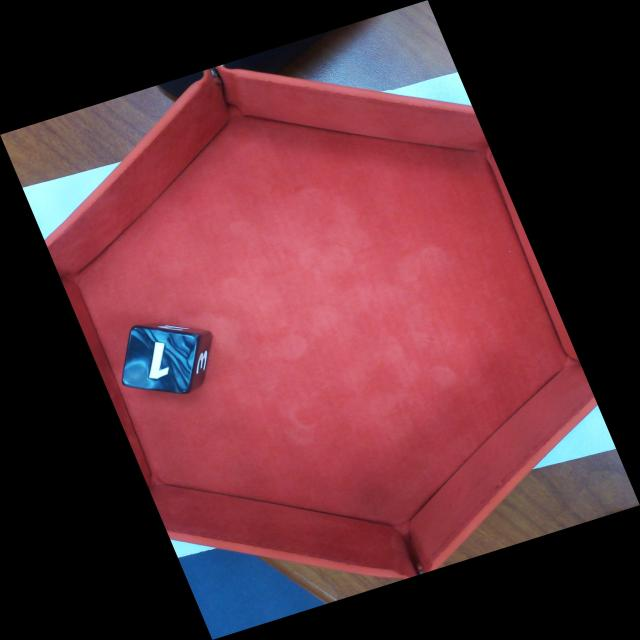dice: (118, 325, 200, 397)
